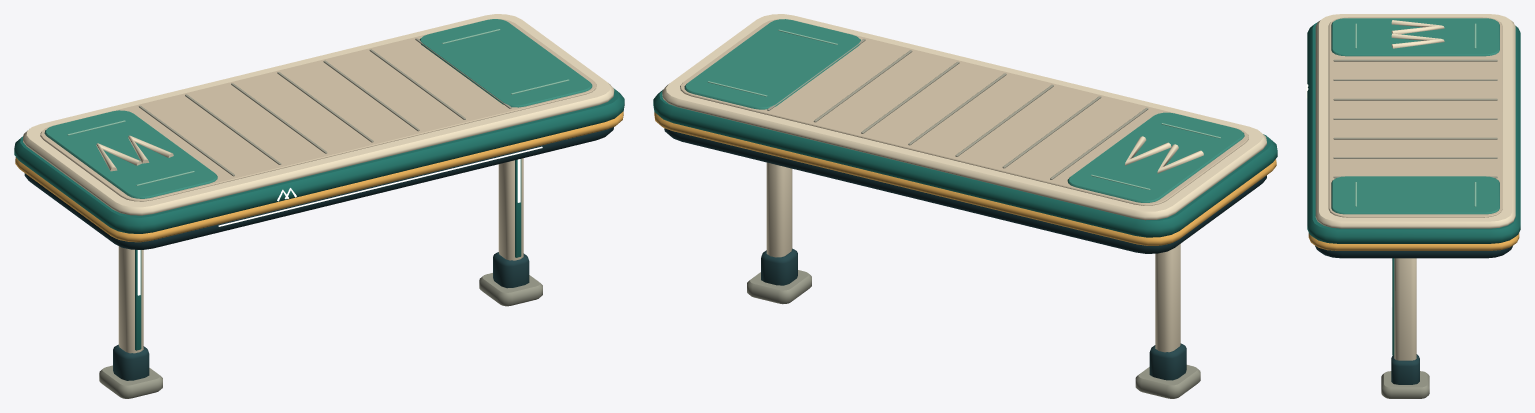
Rendered from canopy.glb.
3 views of the same model, side by side, from view 1: azimuth 30°, elevation 25°; view 2: azimuth 150°, elevation 25°; view 3: azimuth 270°, elevation 25° (orthographic). The views are drawn at different scales.
Visible parts, largest first — view 1: Canopy; view 2: Canopy; view 3: Canopy.
Boxes of the visible parts, x1,y1,x2,y2 form: Canopy: (14, 14, 624, 398); Canopy: (653, 14, 1277, 398); Canopy: (1306, 14, 1520, 398).
Bounding box in the file's own units: 9.67 × 4.16 × 4.04.
